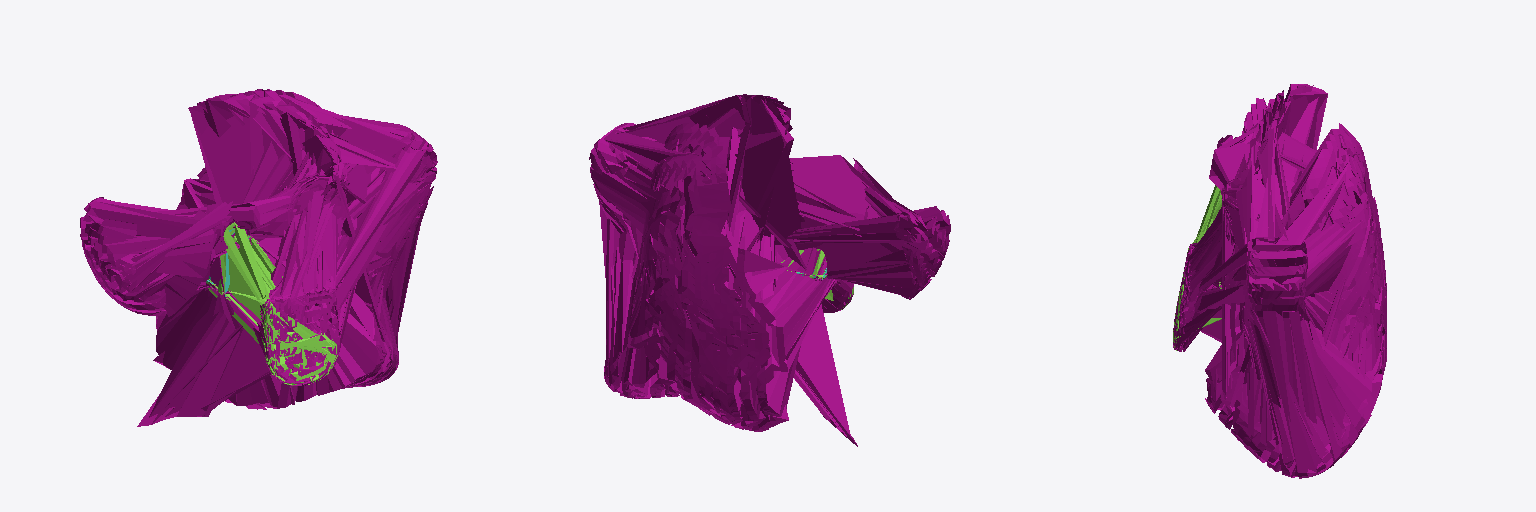
Rendered from phantom.obj.
3 views of the same model, side by side, from view 1: azimuth 30°, elevation 25°; view 2: azimuth 150°, elevation 25°; view 3: azimuth 270°, elevation 25° (orthographic).
Parts seen in each view (by area): view 1: Group33346, Group65013; view 2: Group33346; view 3: Group33346, Group65013.
Part boxes in pixels (x1,y1,x2,y2): Group33346: (80,89,437,426); Group65013: (206,222,337,385); Group33346: (589,94,950,446); Group33346: (1173,84,1386,478); Group65013: (1173,185,1221,350).
Size of the model in its own units: 25.04 by 22.68 by 13.7.